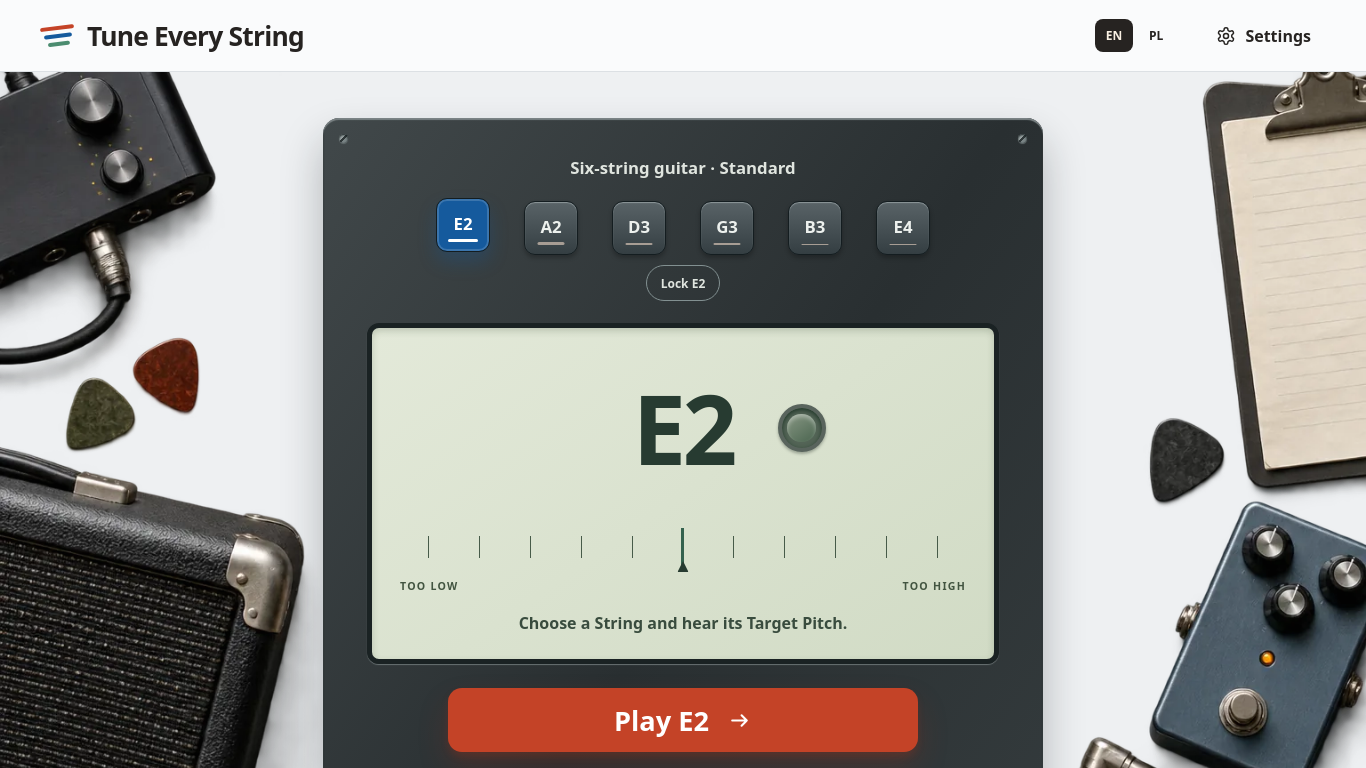
application routes › announces a Reference Tone failure and leaves Play available
This screenshot has width=1366, height=768.
What coordinates should you click on to do the following:
click the button "Play E2"
I would click on:
 (683, 720)
Its box is [448,688,918,752].
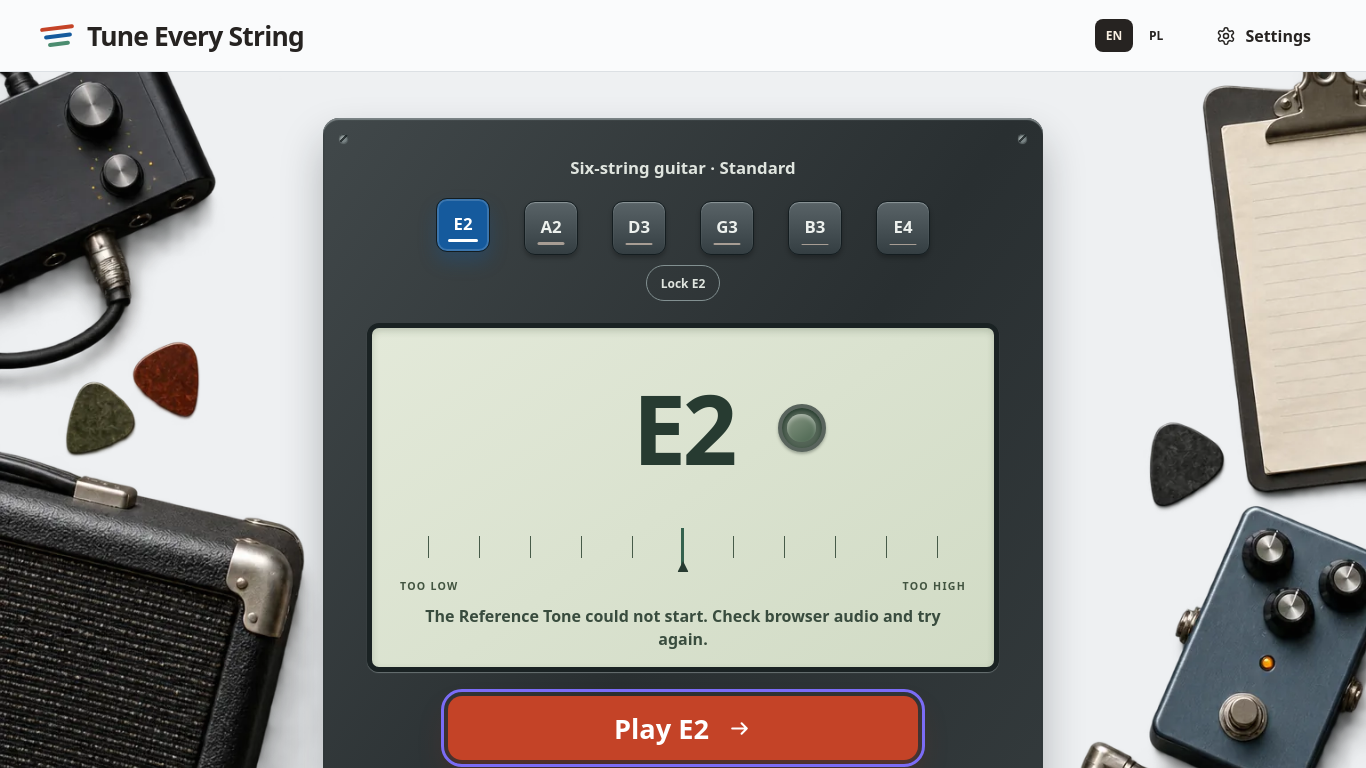
Expected: the button "Play E2" is shown, [448,696,918,760]
Expected: the message reads "The Reference Tone could not start. Check browser audio and try again.", [425,605,941,650]
